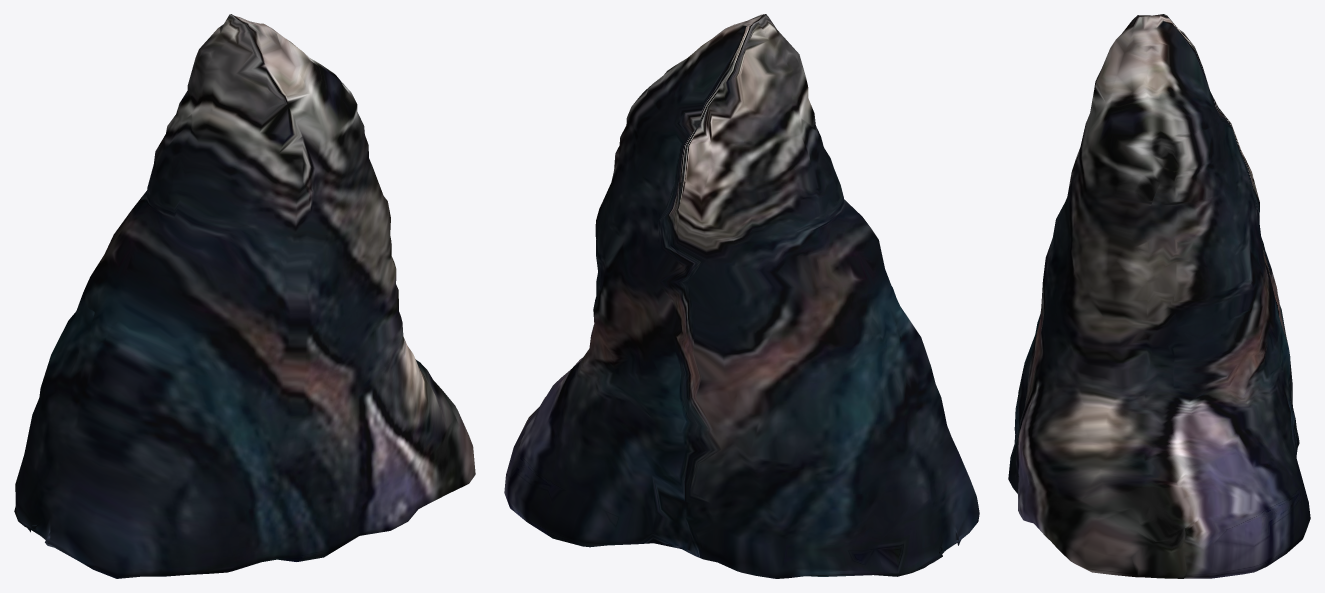
File: rock_spire.glb
3 renders of one model, left to right at view 1: azimuth 30°, elevation 25°; view 2: azimuth 150°, elevation 25°; view 3: azimuth 270°, elevation 25°, orthographic. The views are drawn at different scales.
Visible parts, largest first — view 1: rock_spire; view 2: rock_spire; view 3: rock_spire.
Part boxes in pixels (box(x1,y1,x2,y2)): rock_spire: box(14, 14, 475, 578); rock_spire: box(504, 14, 979, 578); rock_spire: box(1008, 14, 1310, 578).
Bounding box in the file's own units: 0.8889 × 1.01 × 0.5813.
Materials: 1 (1 with a texture image).
